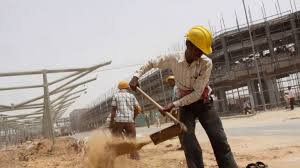arm: (157, 69, 211, 113), (127, 53, 174, 90), (105, 93, 119, 128), (129, 92, 144, 117)
face: (184, 38, 204, 60)
glove: (158, 100, 175, 113)
helmet: (182, 23, 215, 57), (115, 78, 131, 91)
human: (151, 20, 243, 168), (104, 75, 145, 142)
leg: (198, 102, 241, 167), (177, 107, 204, 167)
noglove: (130, 76, 139, 87)
novest: (172, 55, 213, 108), (112, 91, 139, 127)
